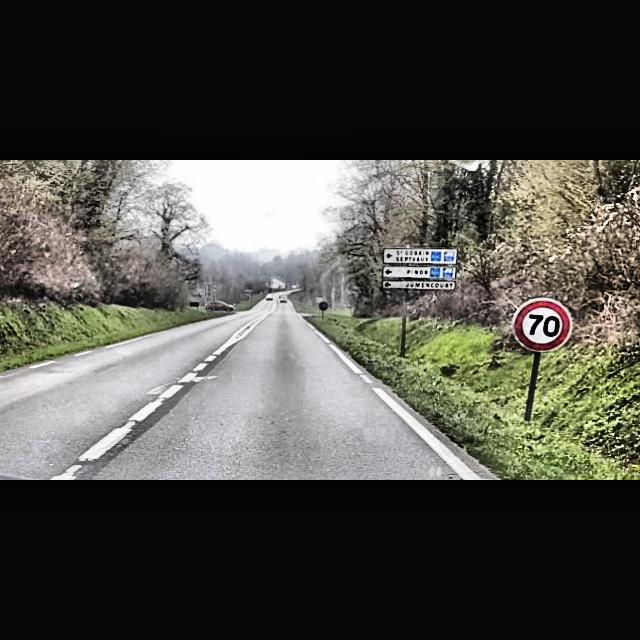speed_70: (512, 298, 572, 352)
